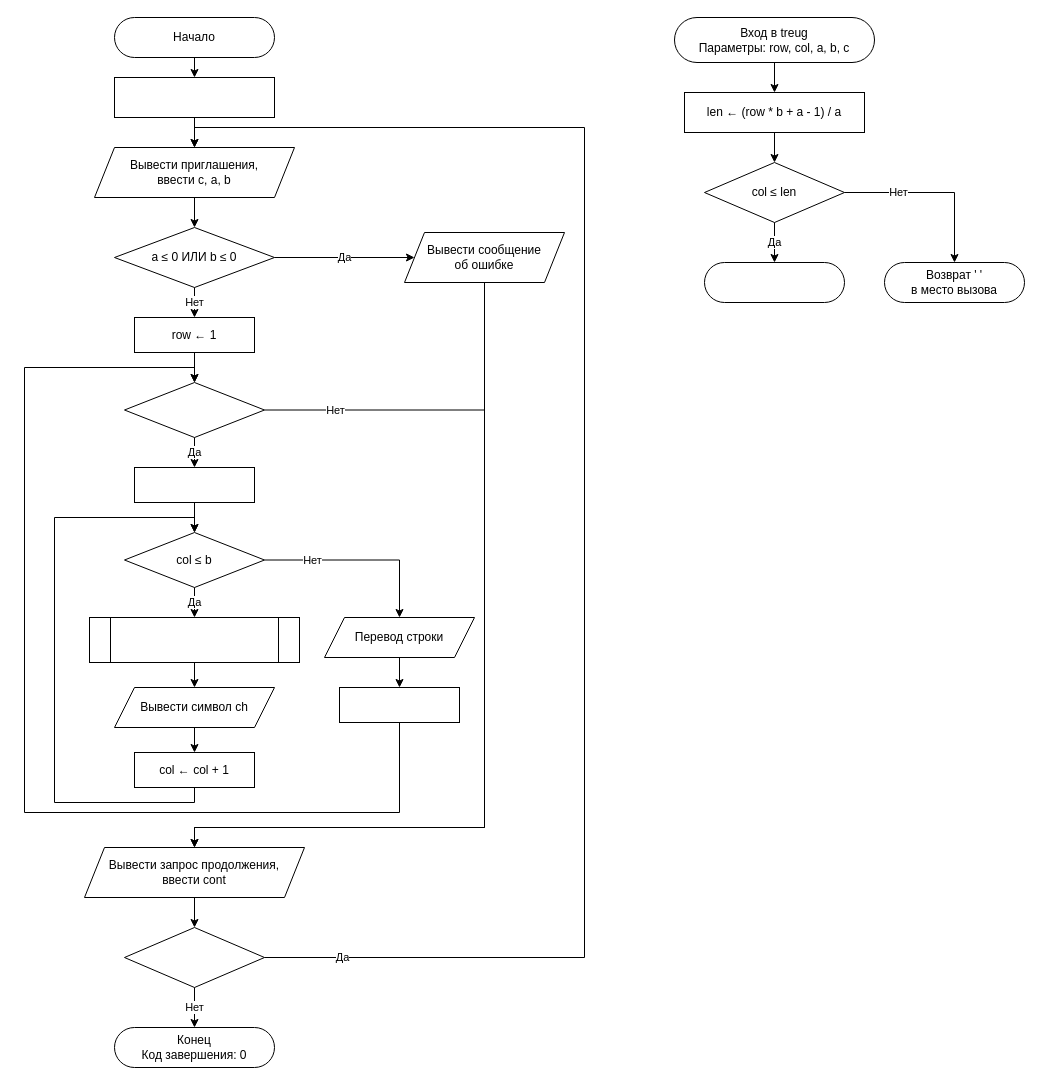
Image size: 1042x1085. Some labels were removed from this diagram. The box of each missing label's shape, as (x1, y1, x2, y2) in pixels:
col ← 1: (134, 466, 254, 502)
cont ≠ 0: (124, 926, 264, 988)
row ← row + 1: (338, 686, 460, 722)
row ≤ a: (124, 382, 264, 438)
Возврат c в место вызова: (704, 262, 844, 302)
Вызвать treug(row, col, a, b, c) и сохранить в ch: (88, 616, 300, 662)
Установить локализацию: (114, 76, 274, 118)
